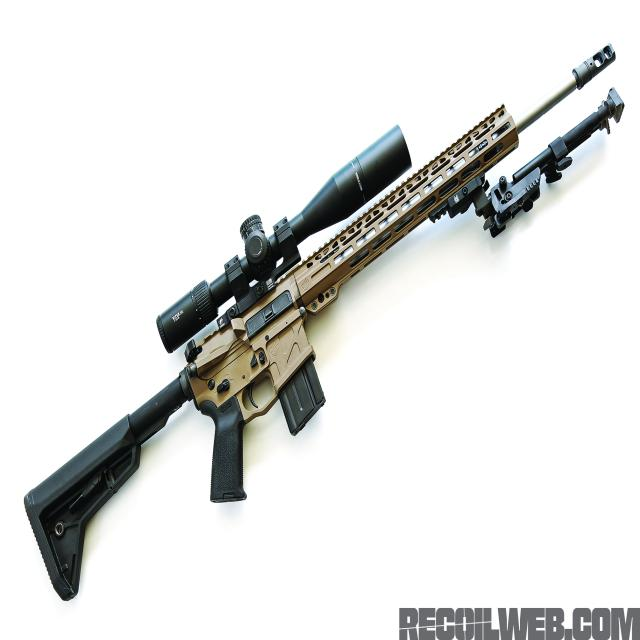Rifle: (23, 48, 617, 603)
